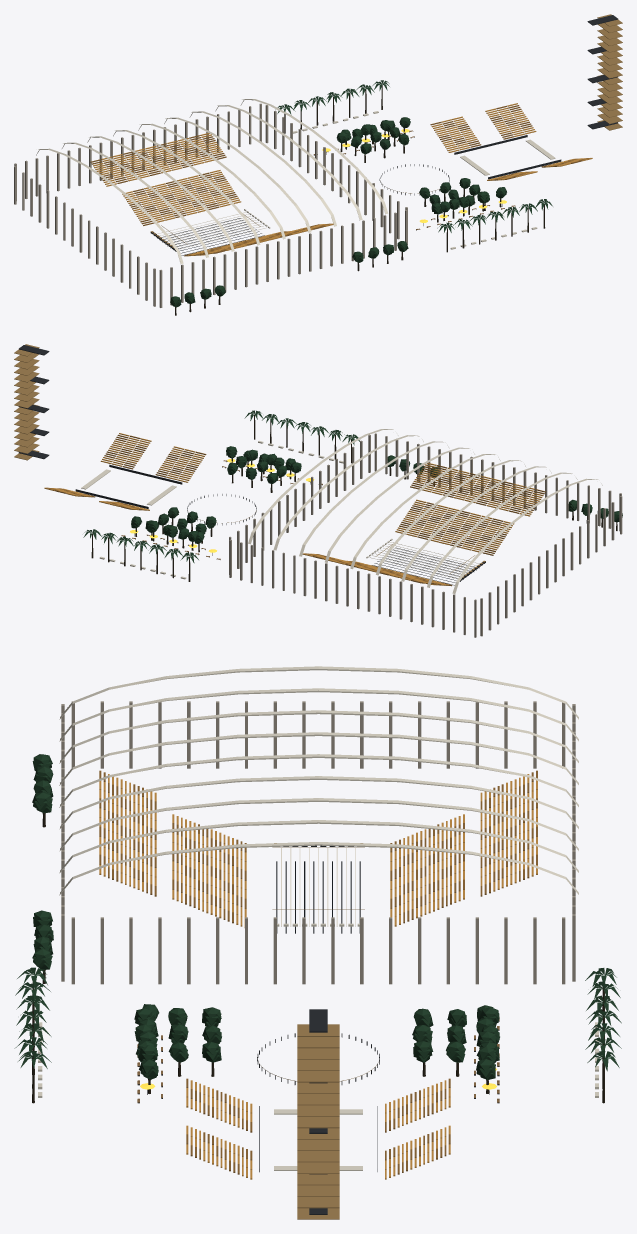
The model's file is dog-aquatics-detail.glb.
3 views of the same model, one above another, from view 1: azimuth 30°, elevation 25°; view 2: azimuth 150°, elevation 25°; view 3: azimuth 270°, elevation 25° (orthographic). The views are drawn at different scales.
Visible parts, largest first — view 1: AQUATICS_DETAIL; view 2: AQUATICS_DETAIL; view 3: AQUATICS_DETAIL.
Boxes of the visible parts, x1,y1,x2,y2 form: AQUATICS_DETAIL: [14, 14, 622, 315]; AQUATICS_DETAIL: [14, 344, 622, 637]; AQUATICS_DETAIL: [14, 666, 621, 1219].
Bounding box in the file's own units: 292 × 63.47 × 164.
